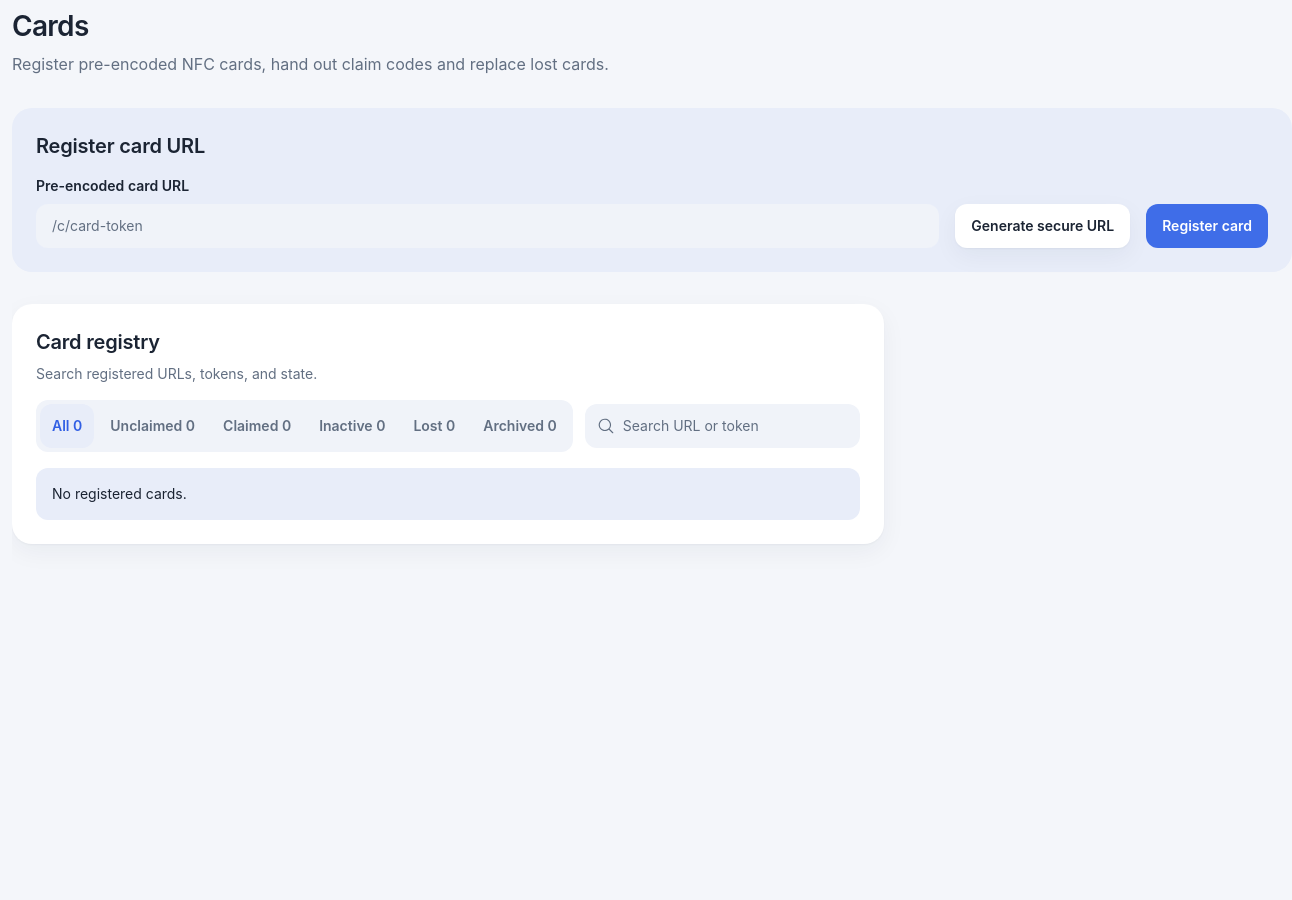
Scenario: live card URL mutations › rejects an absolute URL on a noncanonical host
The image size is (1292, 900).
Type "https://other.example/c/card-88" into the field labelled "Pre-encoded card URL". click: x=488, y=226
box: [36,204,939,248]
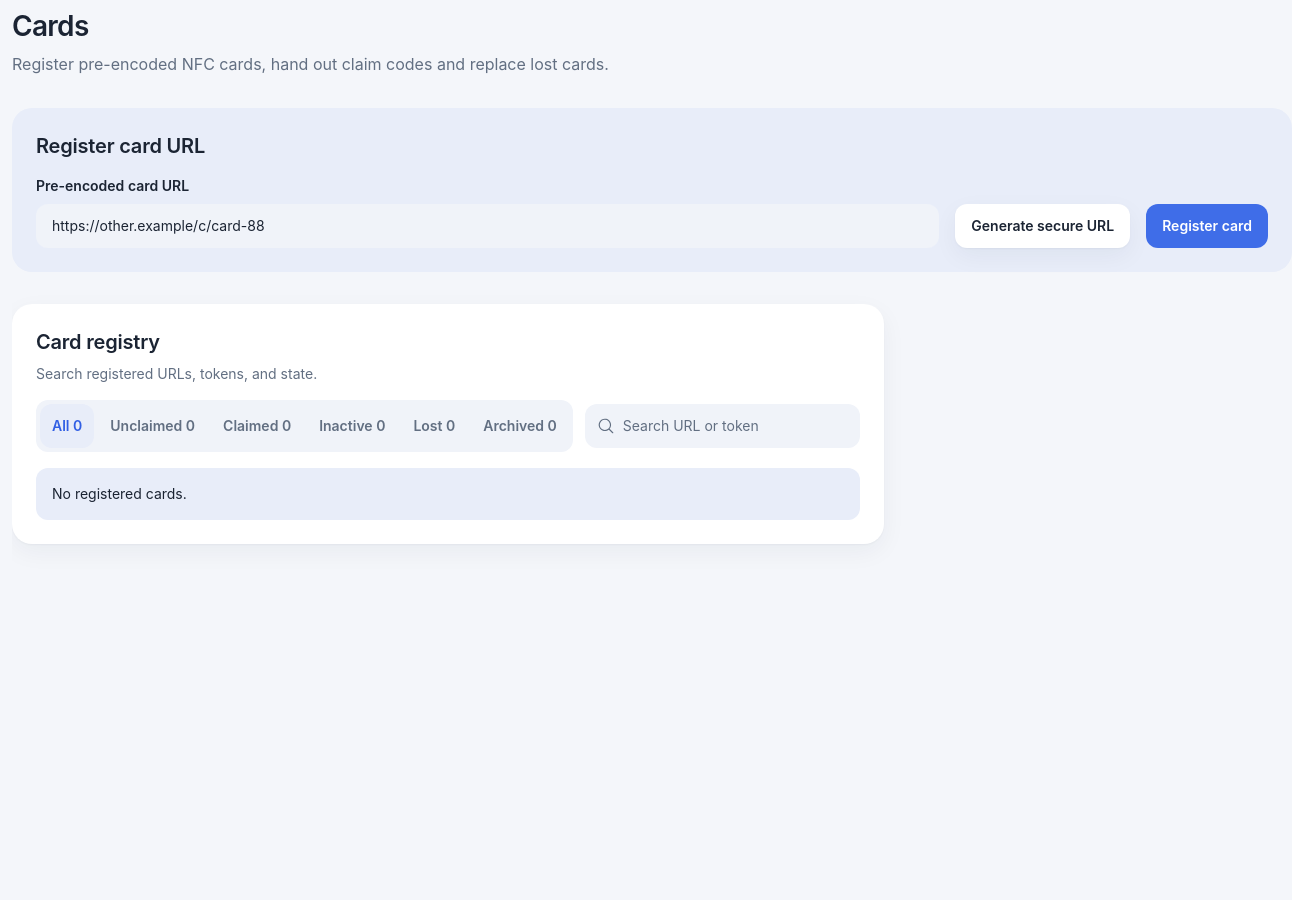
Click the button "Register card". click: x=1207, y=226
box: [1146,204,1268,248]
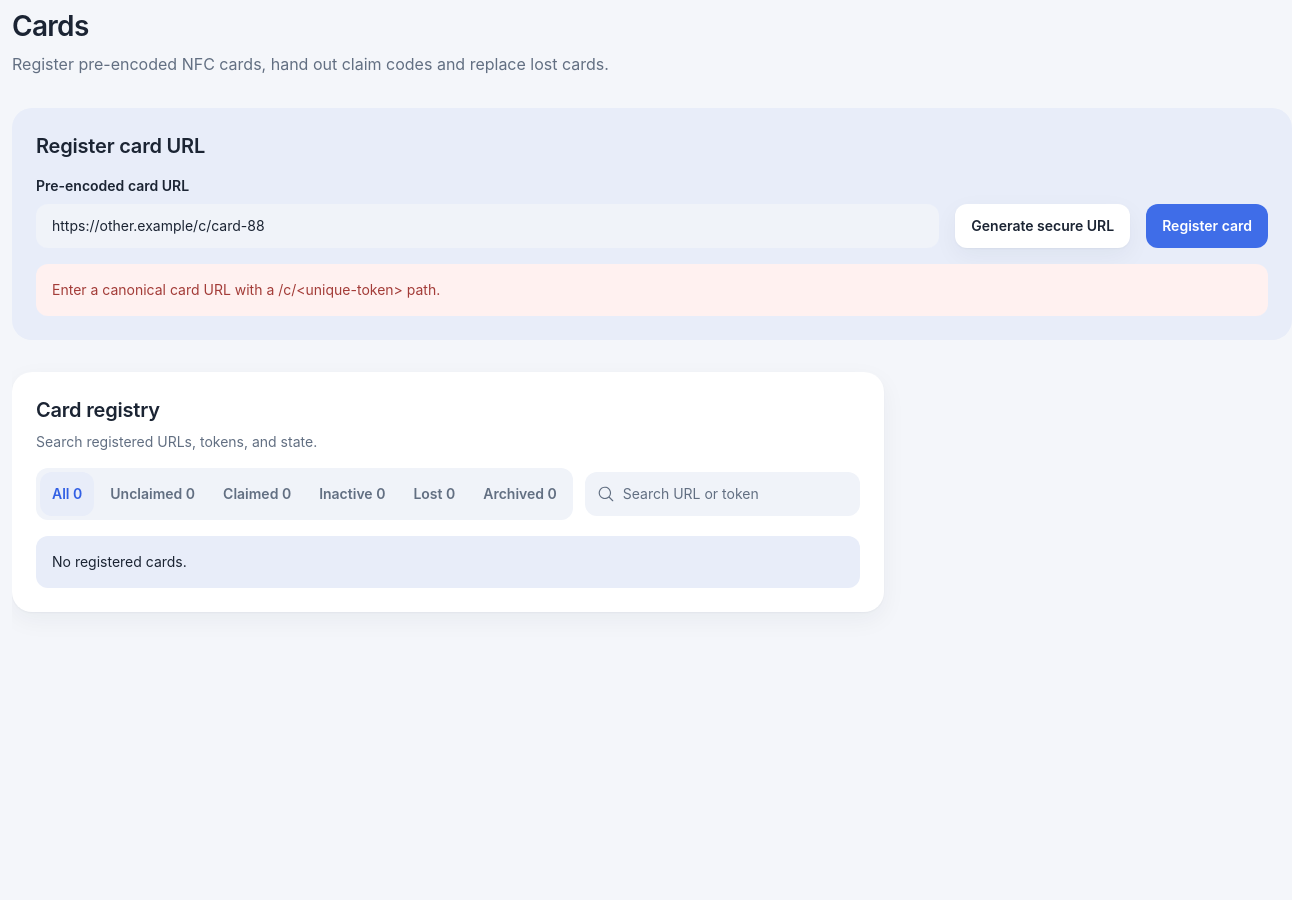
Expected: the message "Enter a canonical card URL with a /c/<unique-token> path." is shown, [36,264,1268,316]
